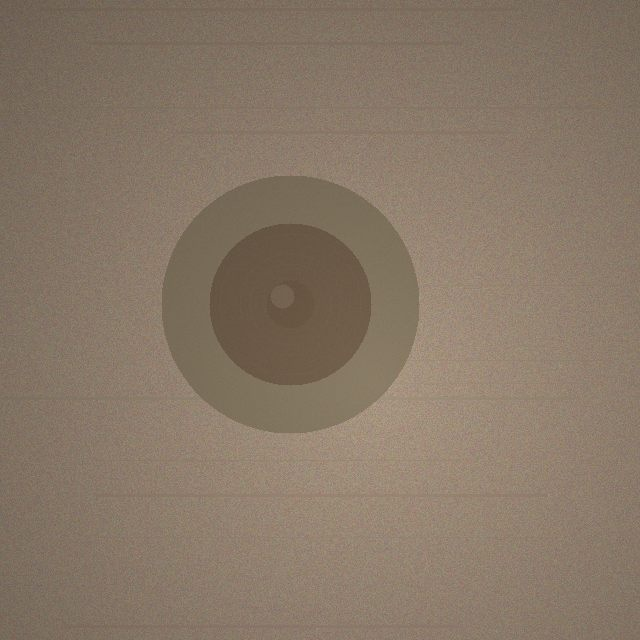good: (161, 175, 419, 433)
